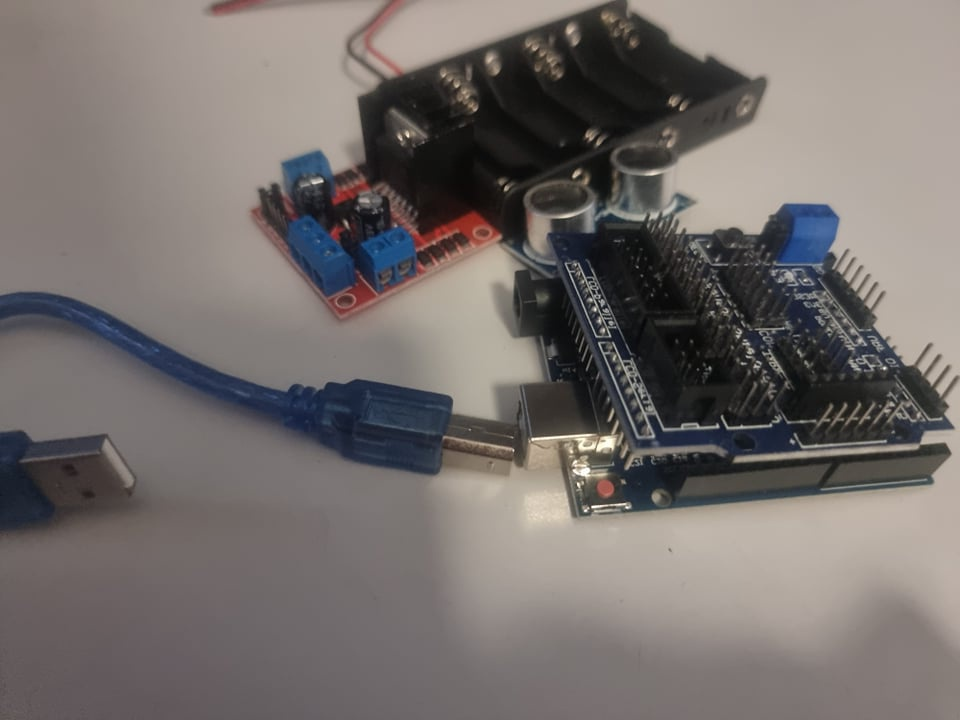5V EXPANSION: (567, 202, 954, 456)
BATTERY BOX: (356, 4, 772, 206)
MOTOR: (244, 88, 493, 321)
SENSOR: (507, 139, 701, 272)
UNO R3: (510, 277, 617, 536)
